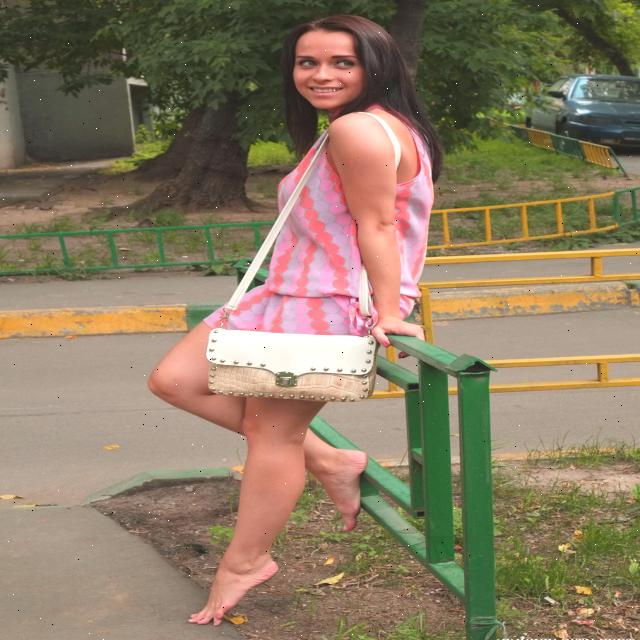No Safety Boots: (188, 556, 278, 626), (329, 449, 368, 531)
